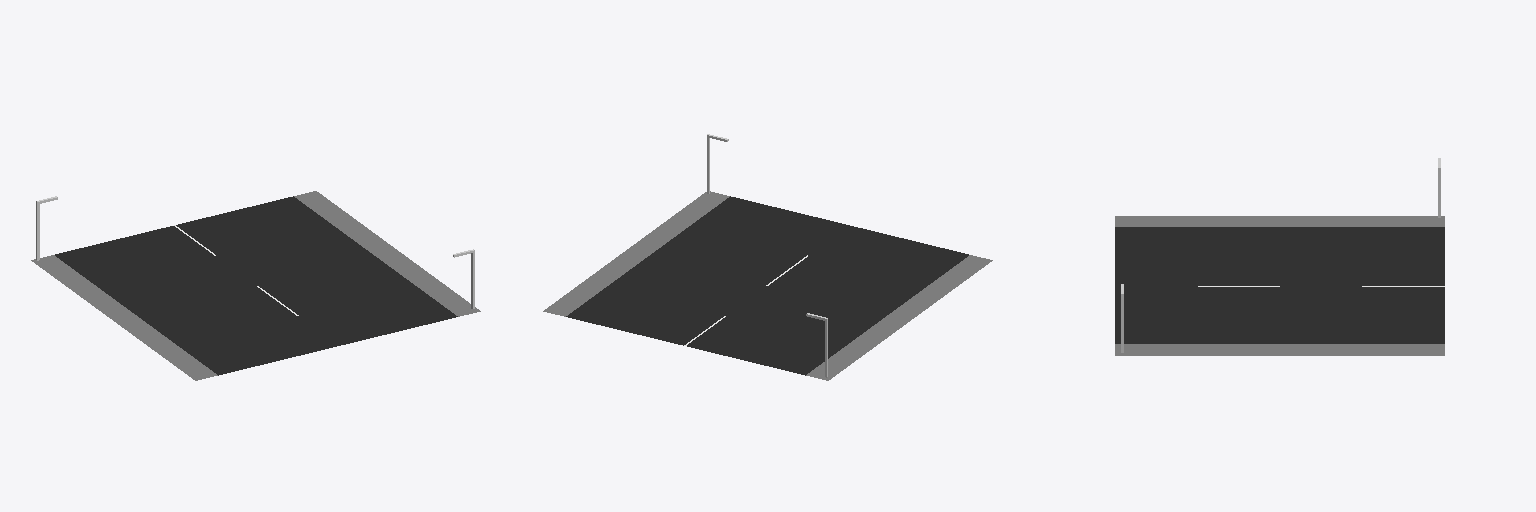
Rendered from road_ns.obj.
3 views of the same model, side by side, from view 1: azimuth 30°, elevation 25°; view 2: azimuth 150°, elevation 25°; view 3: azimuth 270°, elevation 25° (orthographic).
Parts seen in each view (by area): view 1: Mesh2 Model; view 2: Mesh2 Model; view 3: Mesh2 Model.
Part boxes in pixels (left/top/right/bottom): Mesh2 Model: left=31, top=191, right=480, bottom=380; Mesh2 Model: left=543, top=191, right=992, bottom=380; Mesh2 Model: left=1115, top=216, right=1444, bottom=355.
Size of the model in its own units: 25 by 5 by 25.